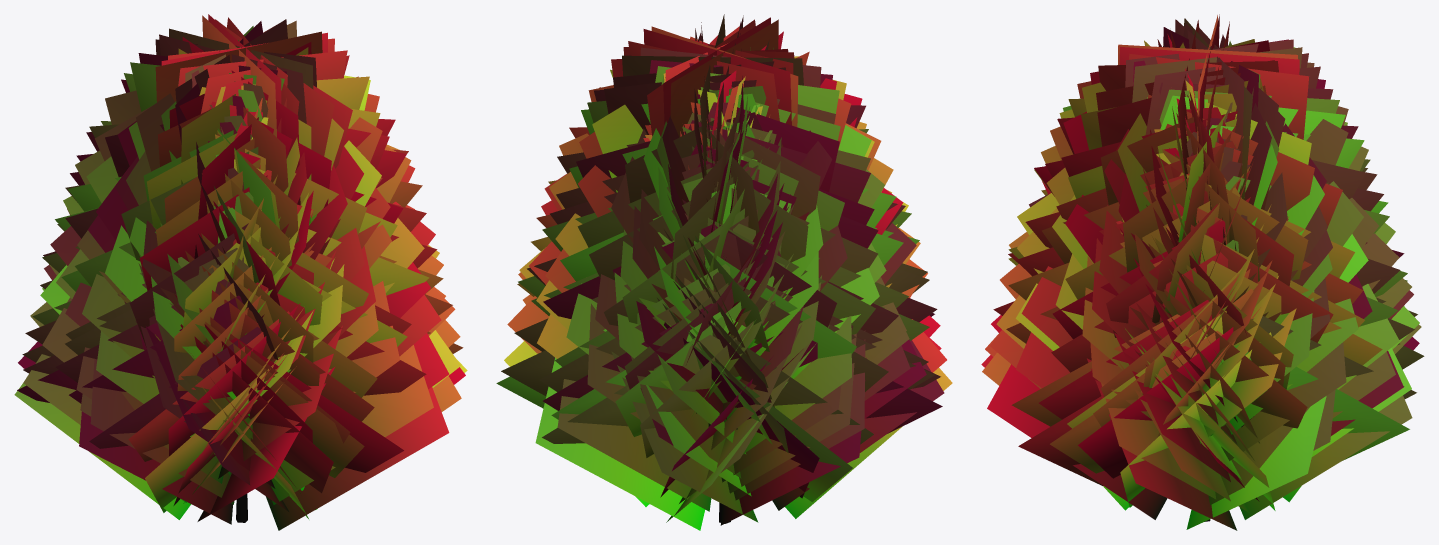
Rendered from URP_P4_Tree_1_LOD_3.fbx.
3 views of the same model, side by side, from view 1: azimuth 30°, elevation 25°; view 2: azimuth 150°, elevation 25°; view 3: azimuth 270°, elevation 25° (orthographic).
Visible parts, largest first — view 1: Tree_1_LOD_3; view 2: Tree_1_LOD_3; view 3: Tree_1_LOD_3.
Part boxes in pixels (x1,y1,x2,y2): Tree_1_LOD_3: (14, 14, 467, 530); Tree_1_LOD_3: (496, 14, 952, 530); Tree_1_LOD_3: (981, 14, 1424, 530).
Size of the model in its own units: 209 by 245 by 209.
